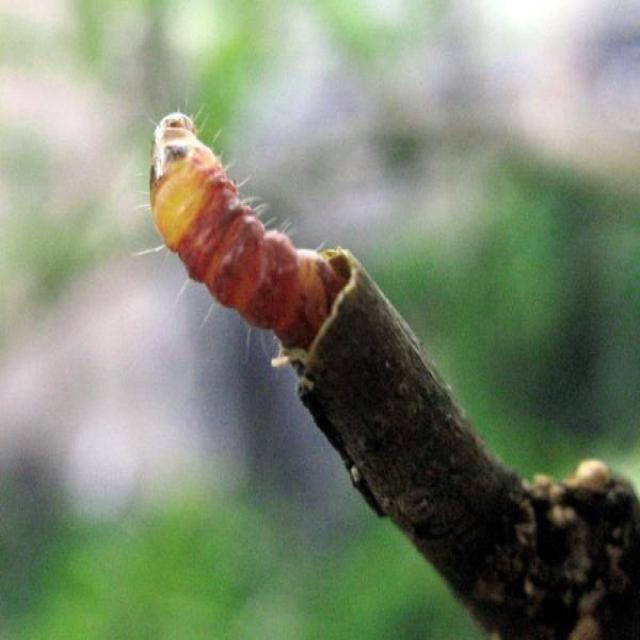peach borer: (154, 109, 344, 366)
